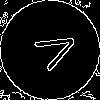V: (25, 25, 82, 77)
